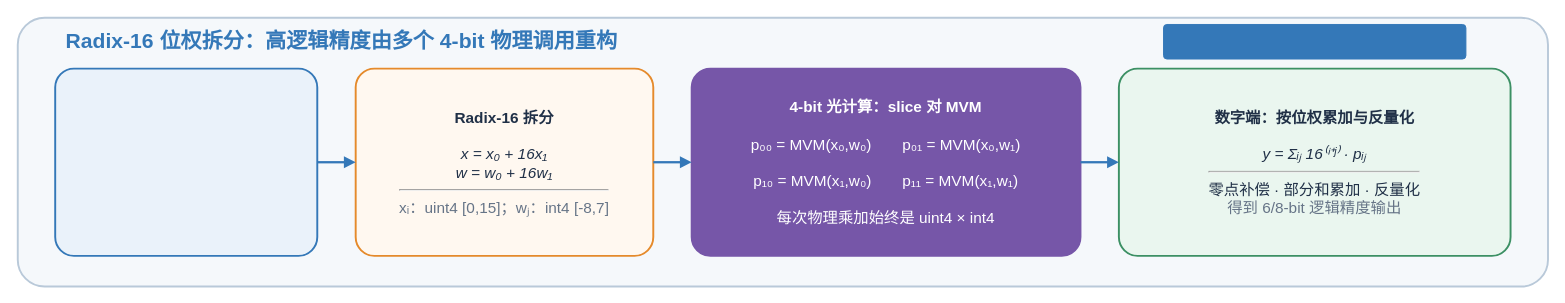
Some shapes in this 1565 by 303 pixel diagram are drawn without their labels. Each missing label, with the box of its shape:
物理 4-bit → 逻辑 6/8-bit: (1163, 24, 1466, 59)
逻辑量化张量 6-bit / 8-bit 输入与权重 x, w 逻辑精度 ≠ 物理位宽: (54, 67, 318, 256)
